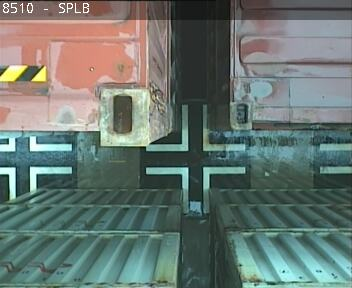groundmarker_1: (145, 165, 246, 214), (144, 104, 246, 151), (1, 166, 73, 197)
